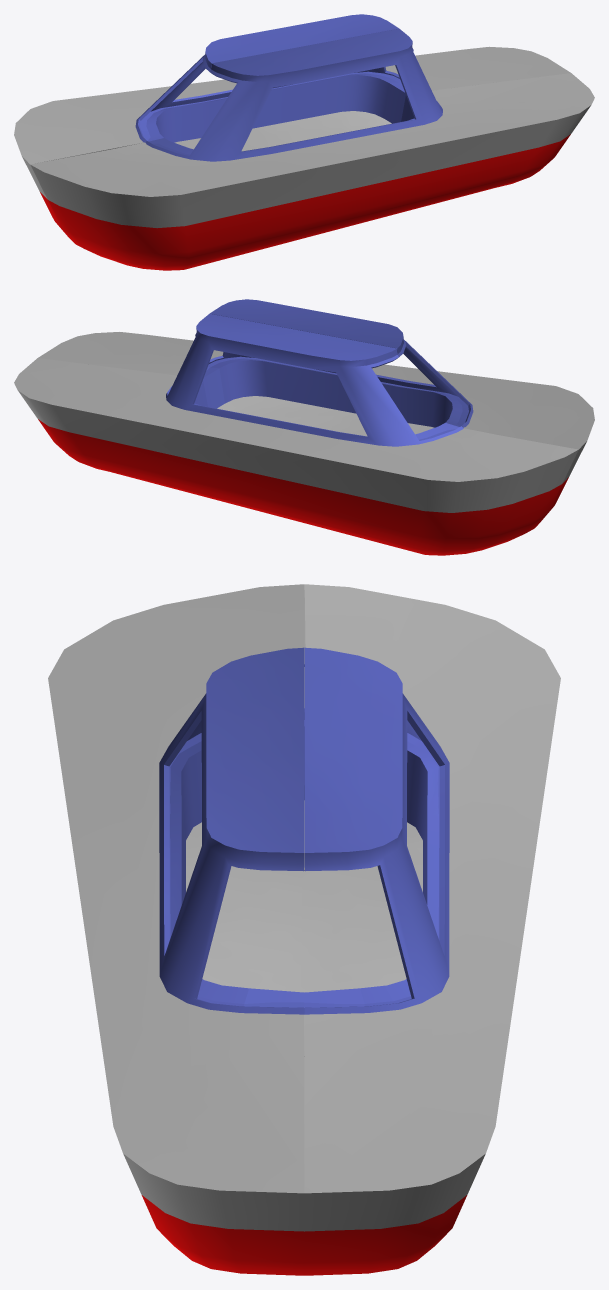
Rendered from Toyboat.fbx.
The picture shows the model from 3 angles, top to bottom: view 1: azimuth 30°, elevation 25°; view 2: azimuth 150°, elevation 25°; view 3: azimuth 270°, elevation 25°; orthographic projection. The views are drawn at different scales.
Parts seen in each view (by area): view 1: ToyBoat; view 2: ToyBoat; view 3: ToyBoat.
Boxes of the visible parts, bbox=[...] form: ToyBoat: bbox=[14, 14, 594, 270]; ToyBoat: bbox=[14, 299, 594, 555]; ToyBoat: bbox=[48, 584, 560, 1275].
Size of the model in its own units: 55.24 by 16.81 by 22.68.
